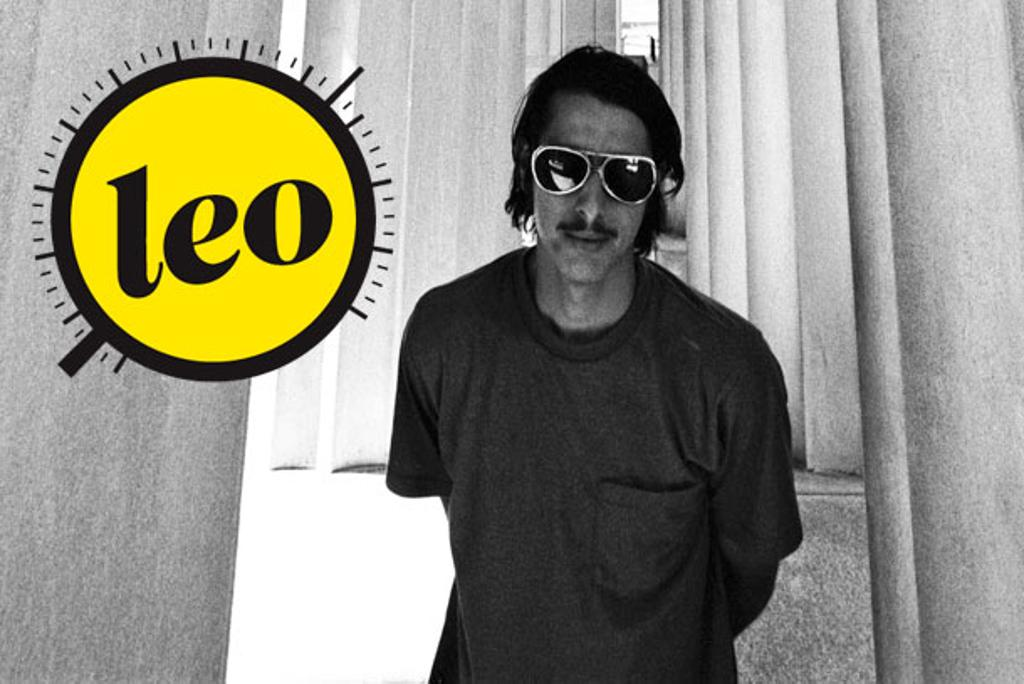face: (524, 94, 652, 284)
